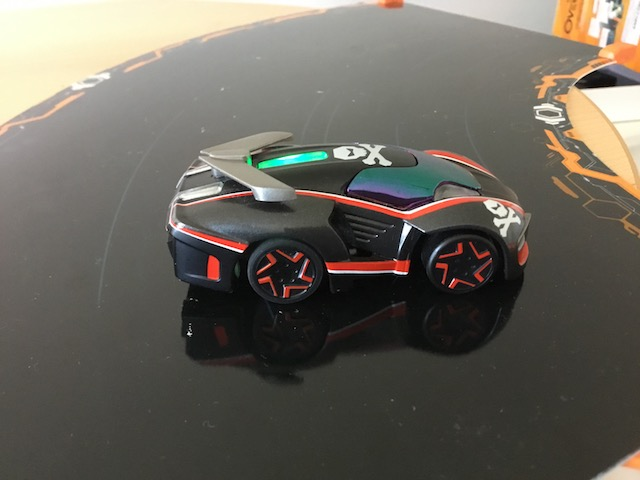car-red: (162, 125, 538, 311)
